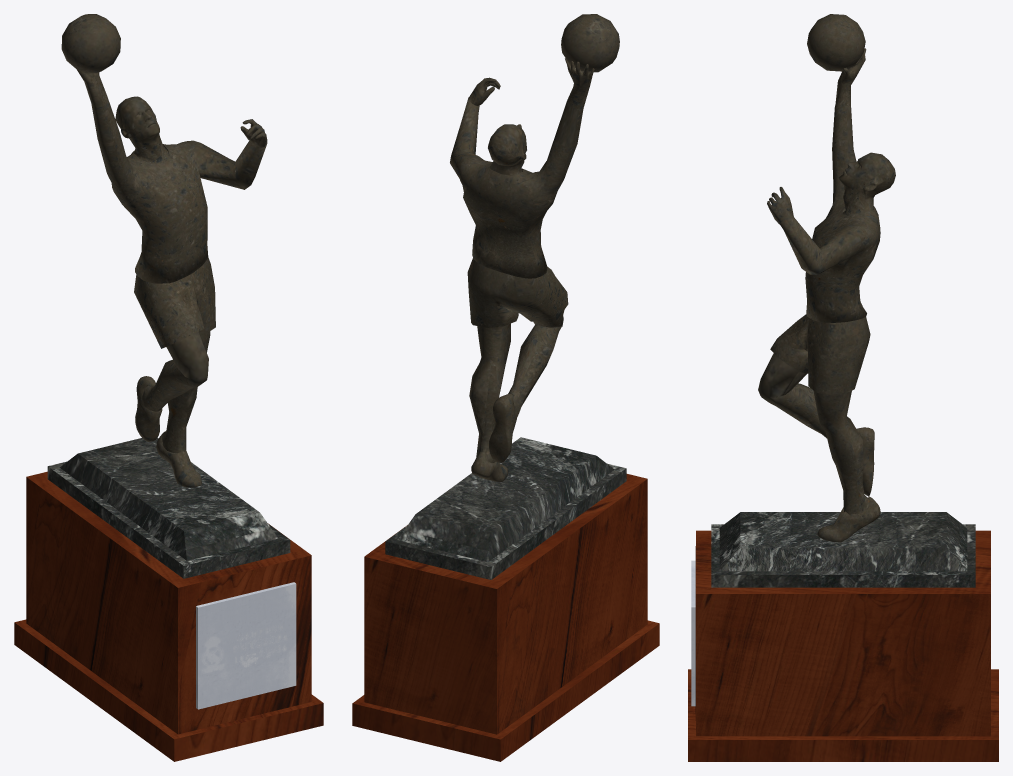
The model's file is estatuaLiga.FBX.
The picture shows the model from 3 angles, left to right: view 1: azimuth 30°, elevation 25°; view 2: azimuth 150°, elevation 25°; view 3: azimuth 270°, elevation 25°; orthographic projection. The views are drawn at different scales.
Visible parts, largest first — view 1: estatuaLiga_peana; view 2: estatuaLiga_peana; view 3: estatuaLiga_peana.
Part boxes in pixels (x1=…): estatuaLiga_peana: x1=14, y1=14, x2=323, y2=761; estatuaLiga_peana: x1=352, y1=14, x2=659, y2=761; estatuaLiga_peana: x1=688, y1=14, x2=998, y2=761.
Bounding box in the file's own units: 89.41 × 324 × 136.
